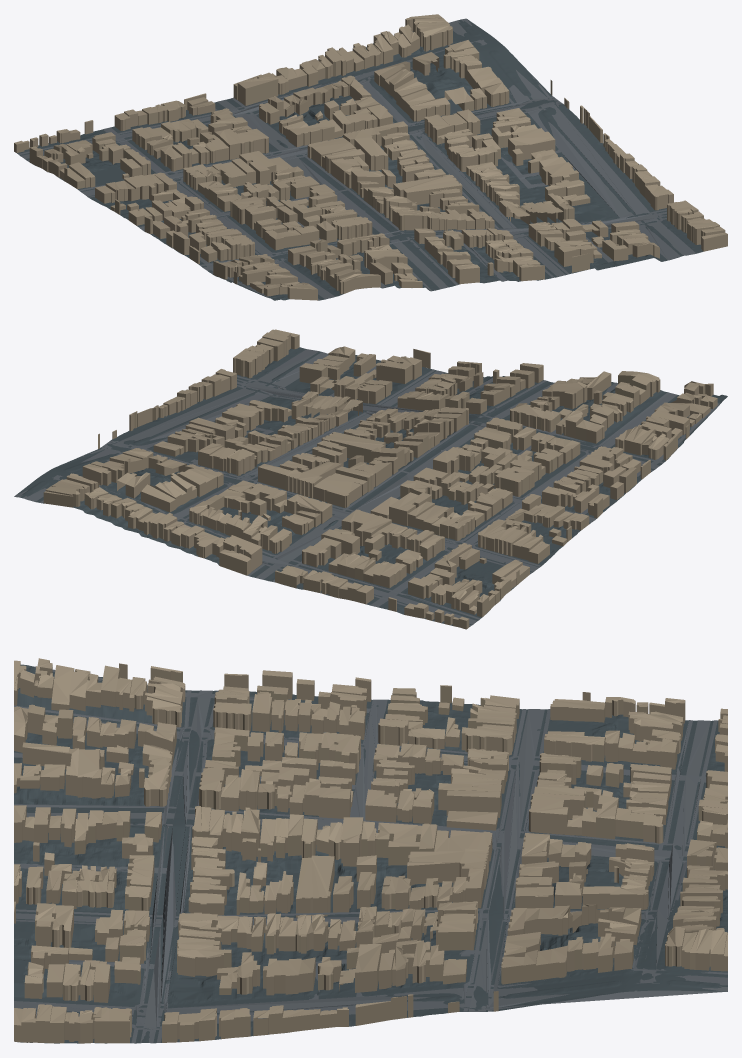
The model's file is epsg26910-1433-10881.lod0.glb.
The picture shows the model from 3 angles, top to bottom: view 1: azimuth 30°, elevation 25°; view 2: azimuth 150°, elevation 25°; view 3: azimuth 270°, elevation 25°; orthographic projection. The views are drawn at different scales.
Visible parts, largest first — view 1: epsg26910-1433-10881-lod0; view 2: epsg26910-1433-10881-lod0; view 3: epsg26910-1433-10881-lod0.
Part boxes in pixels (left/top/right/bottom): epsg26910-1433-10881-lod0: left=14, top=14, right=727, bottom=300; epsg26910-1433-10881-lod0: left=14, top=329, right=727, bottom=629; epsg26910-1433-10881-lod0: left=14, top=658, right=727, bottom=1043.
Bounding box in the file's own units: 384 × 54.05 × 384.
